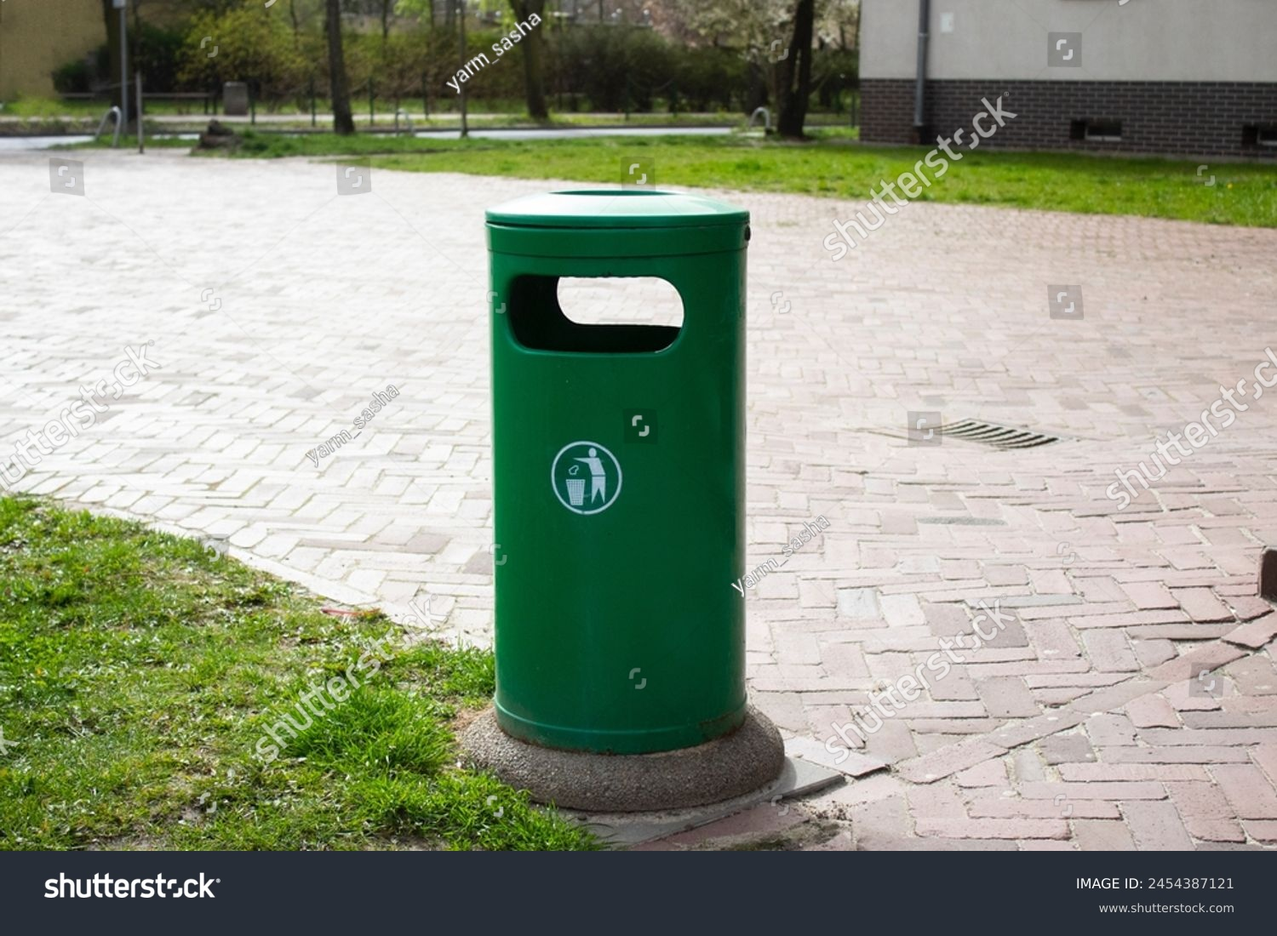TrashBin: (466, 194, 780, 793)
